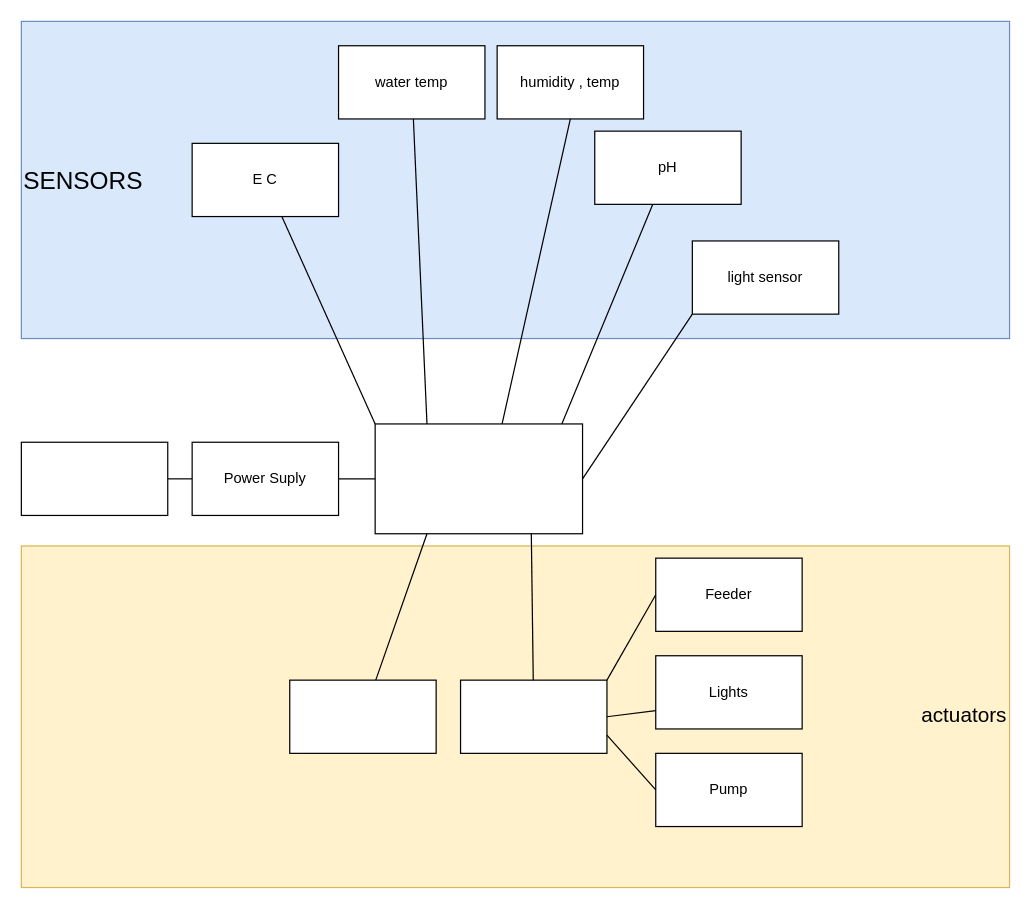
Image size: 1031x909. Some labels were removed from this diagram. The shapes that lost their labels are listed below. From the top down, each one's centre as x and y in pixels, then its label:
At (94,478): "Ups".
At (478,478): "Arduino".
At (362,716): "LCD".
At (533,716): "Rele".
